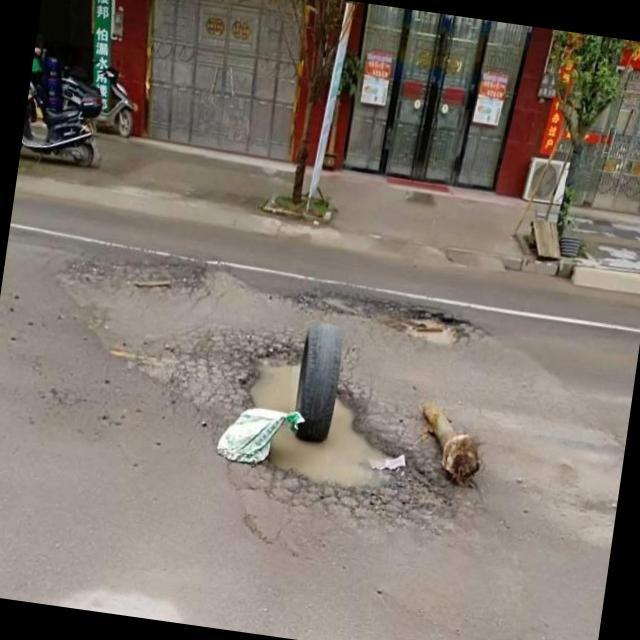Pothole: (246, 353, 445, 508), (304, 291, 471, 346)
